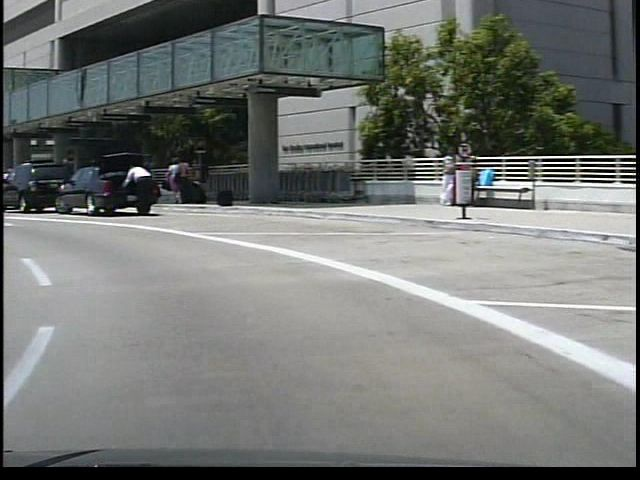person: (116, 164, 153, 222), (172, 155, 190, 208), (160, 159, 177, 207)
